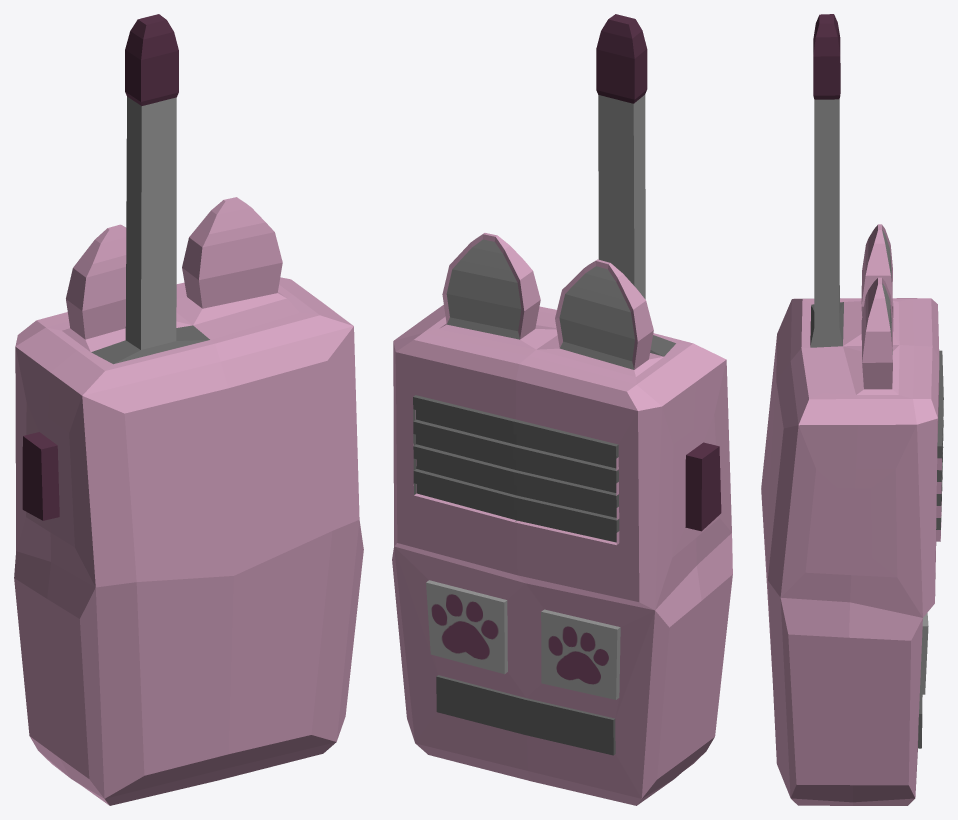
File: radiouwu.fbx
3 renders of one model, left to right at view 1: azimuth 30°, elevation 25°; view 2: azimuth 150°, elevation 25°; view 3: azimuth 270°, elevation 25°, orthographic. The views are drawn at different scales.
Parts seen in each view (by area): view 1: radiokawai.001; view 2: radiokawai.001; view 3: radiokawai.001.
Boxes of the visible parts, left/top/right/bottom form: radiokawai.001: left=14, top=14, right=363, bottom=805; radiokawai.001: left=392, top=14, right=732, bottom=805; radiokawai.001: left=761, top=14, right=943, bottom=805.
Bounding box in the file's own units: 33.72 × 82.77 × 19.12.
